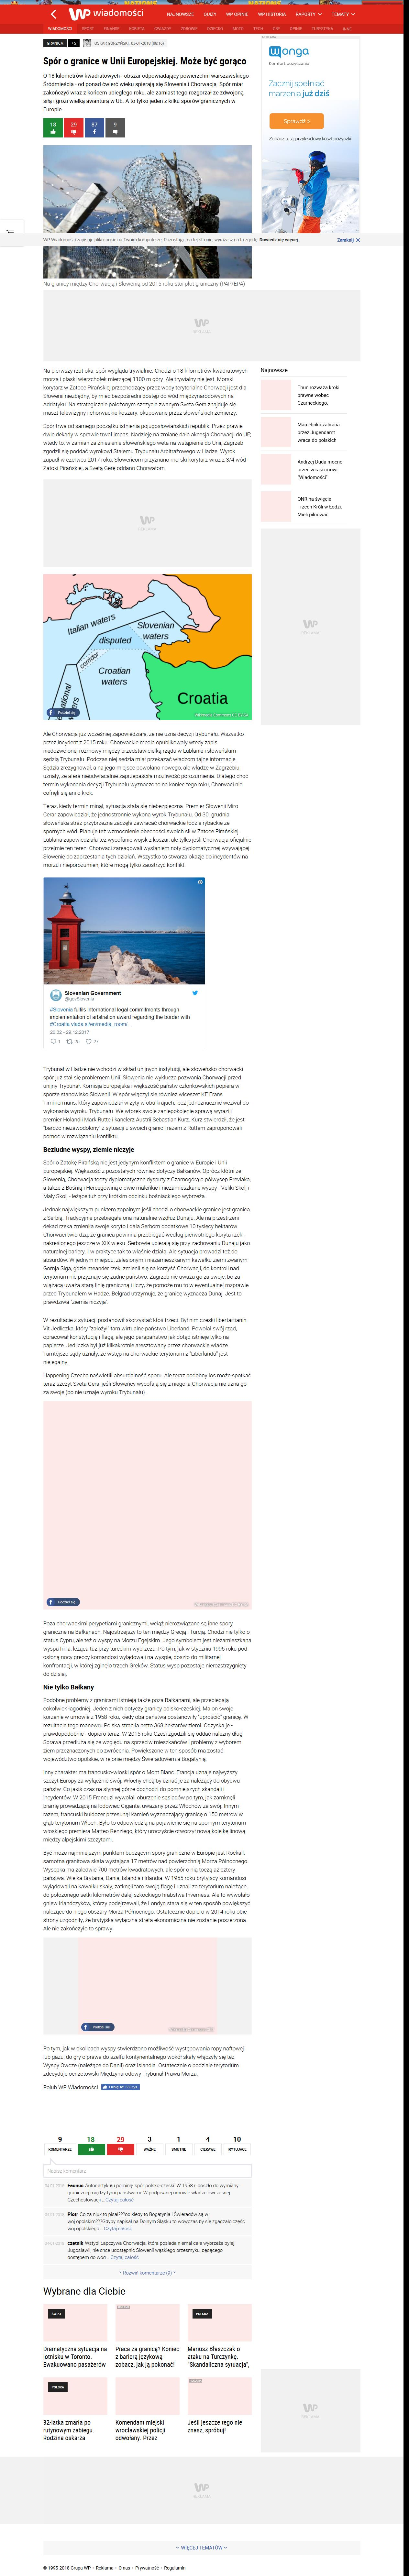title: (43, 56, 246, 67)
